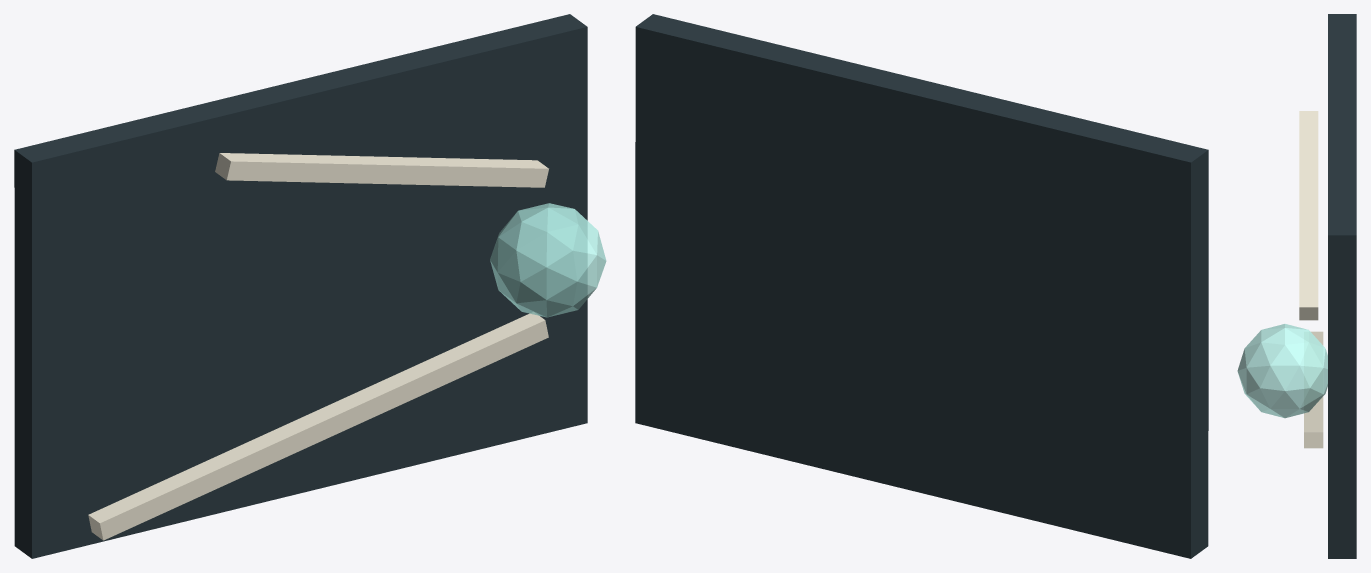
Rendered from 02_world_prop_polish.glb.
3 renders of one model, left to right at view 1: azimuth 30°, elevation 25°; view 2: azimuth 150°, elevation 25°; view 3: azimuth 270°, elevation 25°, orthographic. The views are drawn at different scales.
Parts seen in each view (by area): view 1: object_overlay_plate, edge_wear_a, glow_socket, edge_wear_b; view 2: object_overlay_plate; view 3: object_overlay_plate, glow_socket, edge_wear_b, edge_wear_a.
Boxes of the visible parts, x1,y1,x2,y2 form: object_overlay_plate: (14, 14, 587, 558); edge_wear_a: (88, 312, 548, 540); glow_socket: (490, 203, 606, 317); edge_wear_b: (215, 153, 548, 187); object_overlay_plate: (635, 14, 1208, 558); object_overlay_plate: (1328, 14, 1356, 558); glow_socket: (1237, 324, 1327, 418); edge_wear_b: (1299, 111, 1318, 320); edge_wear_a: (1304, 331, 1323, 448).
Bounding box in the file's own units: 1.1 × 0.7505 × 0.25.
